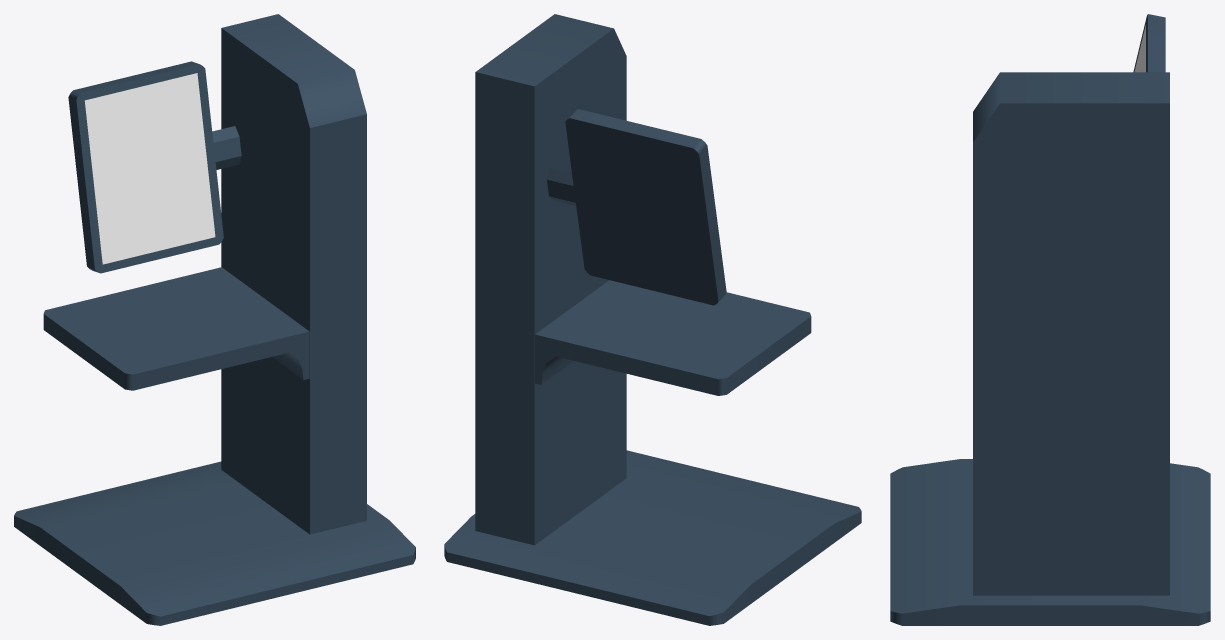
Rendered from bookloan.fbx.
3 renders of one model, left to right at view 1: azimuth 30°, elevation 25°; view 2: azimuth 150°, elevation 25°; view 3: azimuth 270°, elevation 25°, orthographic. The views are drawn at different scales.
Visible parts, largest first — view 1: bookloan; view 2: bookloan; view 3: bookloan.
Boxes of the visible parts, <box> form: bookloan: <box>14,14,415,625</box>; bookloan: <box>444,14,861,625</box>; bookloan: <box>890,14,1210,625</box>.
Bounding box in the file's own units: 0.0066 × 0.0108 × 0.00611.
Materials: 1 (1 with a texture image).
